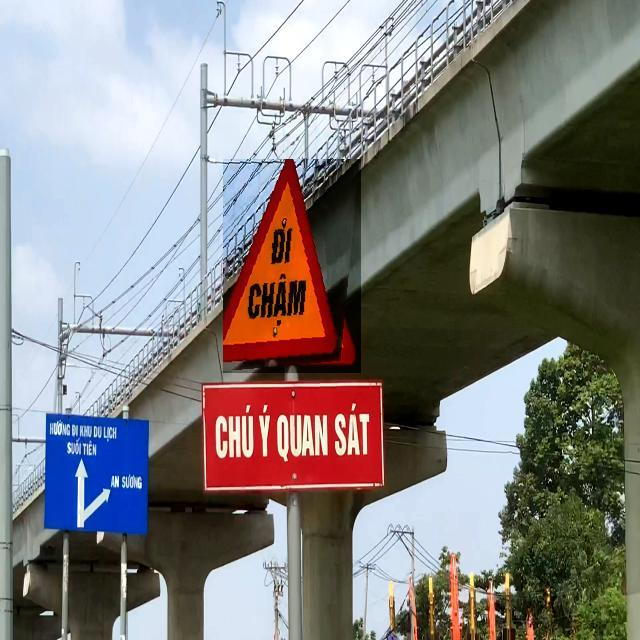W-245a: (223, 159, 361, 373)
